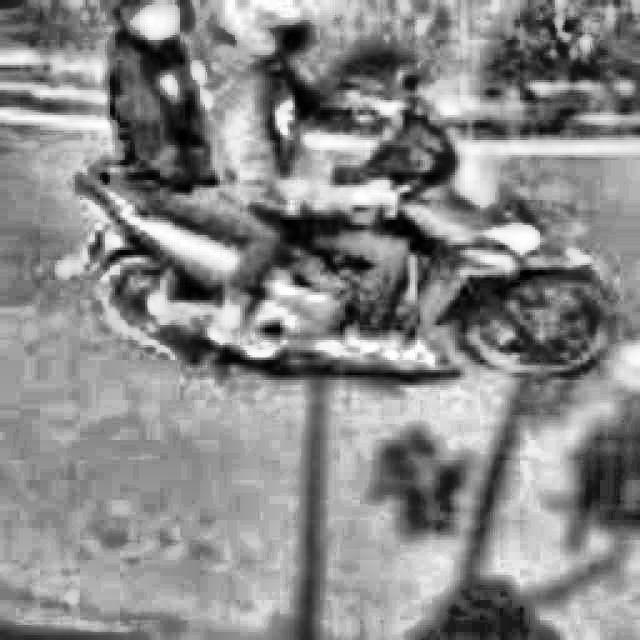motorcycle: (61, 71, 640, 394)
